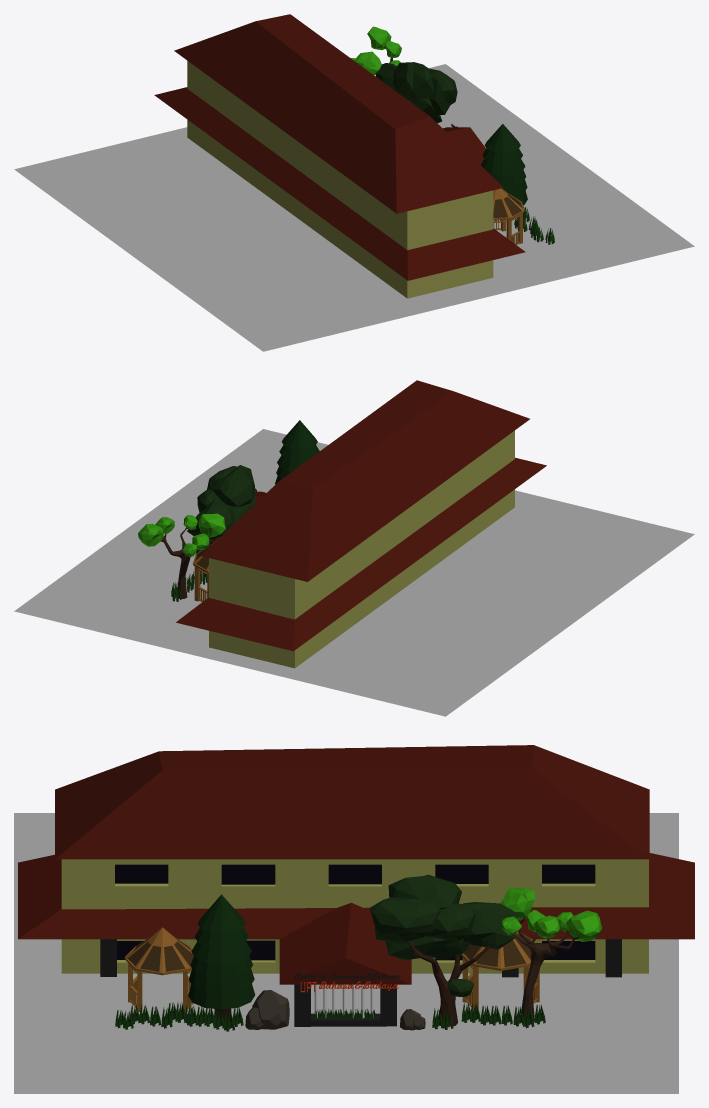
Rendered from GedungUPTbaru.obj.
3 renders of one model, top to bottom at view 1: azimuth 30°, elevation 25°; view 2: azimuth 150°, elevation 25°; view 3: azimuth 270°, elevation 25°, orthographic. The views are drawn at different scales.
Parts seen in each view (by area): view 1: Plane_Plane.001, Cube.003_Cube.004, Cube.001_Cube.002, Cube.004_Cube.005, Tree2.2_Cube.020, Tree3.1_Cylinder.013, Tree1.1_Icosphere.005, Cube.002_Cube.003; view 2: Plane_Plane.001, Cube.003_Cube.004, Cube.001_Cube.002, Cube.004_Cube.005, Tree2.2_Cube.020, Tree1.1_Icosphere.005, Tree3.1_Cylinder.013; view 3: Plane_Plane.001, Cube.003_Cube.004, Cube.001_Cube.002, Cube.004_Cube.005, Tree2.2_Cube.020, Cube.002_Cube.003, Tree3.1_Cylinder.013, Tree1.1_Icosphere.005, pCylinder3.001_Untitled.091, Stone3.1_Cube.030, pCylinder3_Untitled.036, Cube.005_Cube.006 (+5 smaller).
Boxes of the visible parts, x1,y1,x2,y2 form: Plane_Plane.001: (14, 64, 694, 351); Cube.003_Cube.004: (174, 14, 503, 213); Cube.001_Cube.002: (187, 61, 493, 298); Cube.004_Cube.005: (154, 87, 525, 280); Tree2.2_Cube.020: (375, 62, 457, 123); Tree3.1_Cylinder.013: (481, 124, 527, 205); Tree1.1_Icosphere.005: (351, 26, 401, 75); Cube.002_Cube.003: (443, 127, 485, 164); Plane_Plane.001: (14, 429, 694, 716); Cube.003_Cube.004: (201, 380, 529, 581); Cube.001_Cube.002: (209, 430, 514, 668); Cube.004_Cube.005: (176, 457, 546, 651); Tree2.2_Cube.020: (187, 465, 255, 577); Tree1.1_Icosphere.005: (138, 513, 225, 598); Tree3.1_Cylinder.013: (275, 420, 319, 484); Plane_Plane.001: (14, 813, 678, 1093); Cube.003_Cube.004: (55, 745, 649, 859); Cube.001_Cube.002: (61, 859, 648, 973); Cube.004_Cube.005: (18, 853, 694, 939); Tree2.2_Cube.020: (370, 874, 517, 1026); Cube.002_Cube.003: (279, 902, 411, 984); Tree3.1_Cylinder.013: (188, 894, 255, 1021); Tree1.1_Icosphere.005: (500, 887, 601, 1023); pCylinder3.001_Untitled.091: (128, 940, 193, 971); Stone3.1_Cube.030: (252, 990, 289, 1029); pCylinder3_Untitled.036: (463, 932, 531, 966); Cube.005_Cube.006: (294, 984, 310, 1026).
Bounding box in the file's own units: 10.07 × 3.34 × 10.31.
